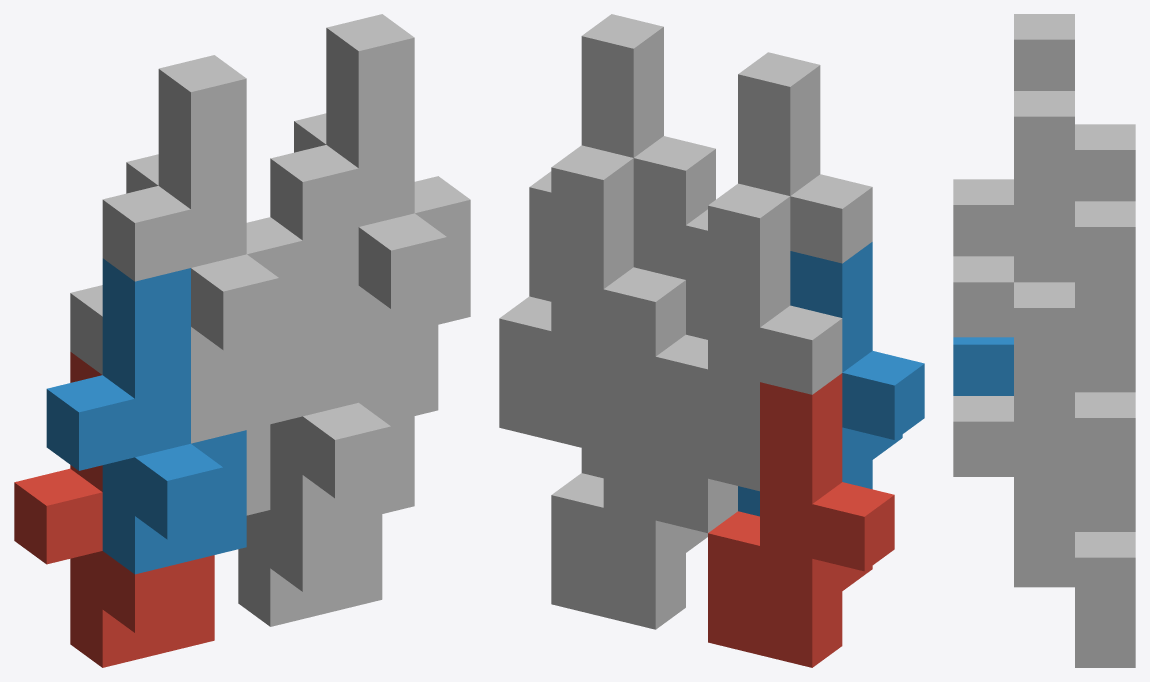
Rendered from tiling.obj.
The picture shows the model from 3 angles, left to right: view 1: azimuth 30°, elevation 25°; view 2: azimuth 150°, elevation 25°; view 3: azimuth 270°, elevation 25°; orthographic projection. The views are drawn at different scales.
Visible parts, largest first — view 1: copy_1_domain_2, copy_1_domain_8, copy_1_domain_4, copy_1_domain_6, copy_1_domain_1, copy_1_domain_5, copy_1_domain_3, copy_1_domain_7; view 2: copy_1_domain_1, copy_1_domain_3, copy_1_domain_7, copy_1_domain_5, copy_1_domain_8, copy_1_domain_4, copy_1_domain_2, copy_1_domain_6; view 3: copy_1_domain_8, copy_1_domain_7, copy_1_domain_6, copy_1_domain_5, copy_1_domain_4, copy_1_domain_3, copy_1_domain_2.
Part boxes in pixels (box(x1,y1,x2,y2)): copy_1_domain_2: box(46, 258, 246, 574); copy_1_domain_8: box(270, 14, 470, 343); copy_1_domain_4: box(102, 55, 302, 384); copy_1_domain_6: box(246, 227, 414, 533); copy_1_domain_1: box(14, 352, 214, 667); copy_1_domain_5: box(238, 451, 382, 626); copy_1_domain_3: box(70, 154, 270, 456); copy_1_domain_7: box(294, 113, 438, 415); copy_1_domain_1: box(708, 373, 894, 667); copy_1_domain_3: box(655, 183, 842, 491); copy_1_domain_7: box(499, 145, 685, 452); copy_1_domain_5: box(551, 344, 737, 629); copy_1_domain_8: box(529, 14, 715, 301); copy_1_domain_4: box(686, 52, 872, 339); copy_1_domain_2: box(738, 242, 924, 516); copy_1_domain_6: box(581, 213, 685, 478); copy_1_domain_8: box(953, 91, 1074, 417); copy_1_domain_7: box(1014, 201, 1135, 528); copy_1_domain_6: box(953, 396, 1074, 557); copy_1_domain_5: box(1014, 528, 1135, 667); copy_1_domain_4: box(953, 14, 1074, 256); copy_1_domain_3: box(1075, 124, 1135, 201); copy_1_domain_2: box(953, 337, 1013, 395).
Bounding box in the file's own units: 7 × 10 × 3.
